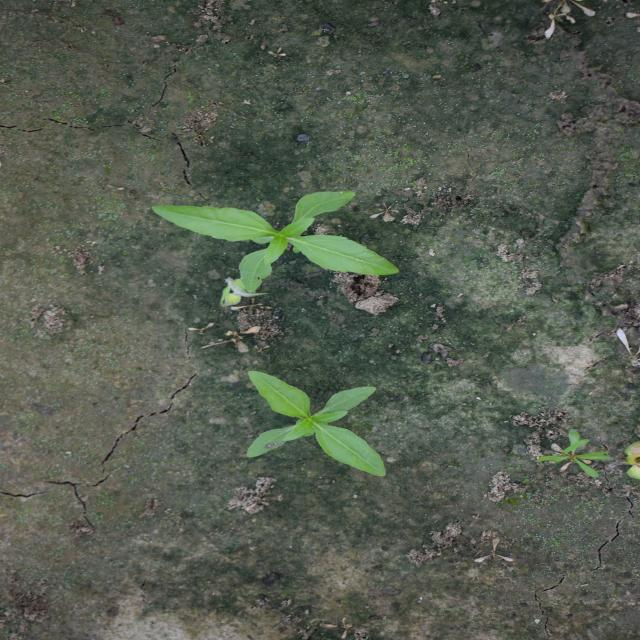Carpetweed: (534, 426, 614, 480)
Eclipta: (148, 189, 401, 295), (242, 368, 388, 478)
